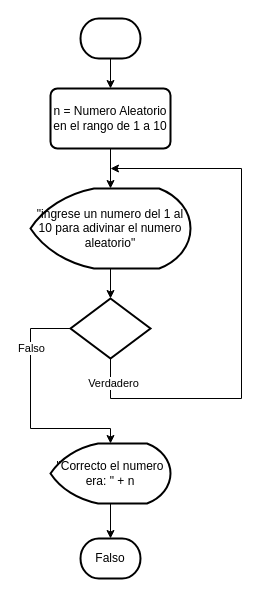
The diagram is 267 pixels wide and 596 high, and some of its shapes have lost their labels. The shapes that lost their labels are listed below. From the top down, each one's box as (x1, y1, x2, y2) in pixels, then its label:
(79, 17, 141, 59): Inicio
(69, 297, 151, 359): input != n
